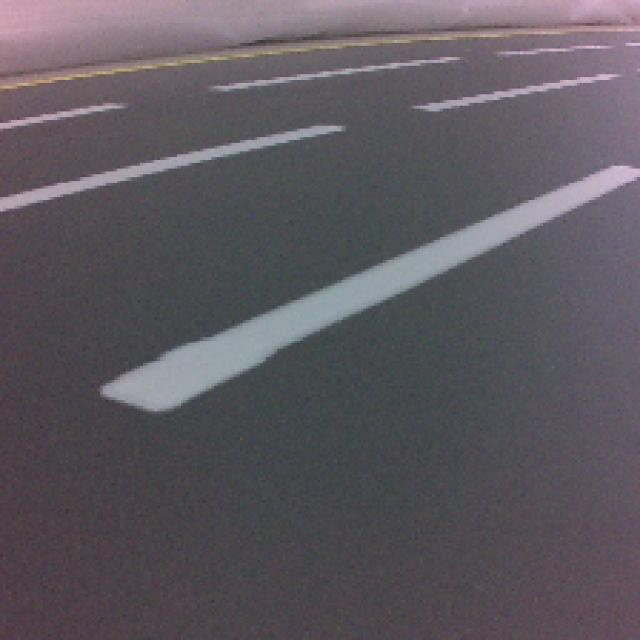Guard rail: (102, 163, 636, 419)
